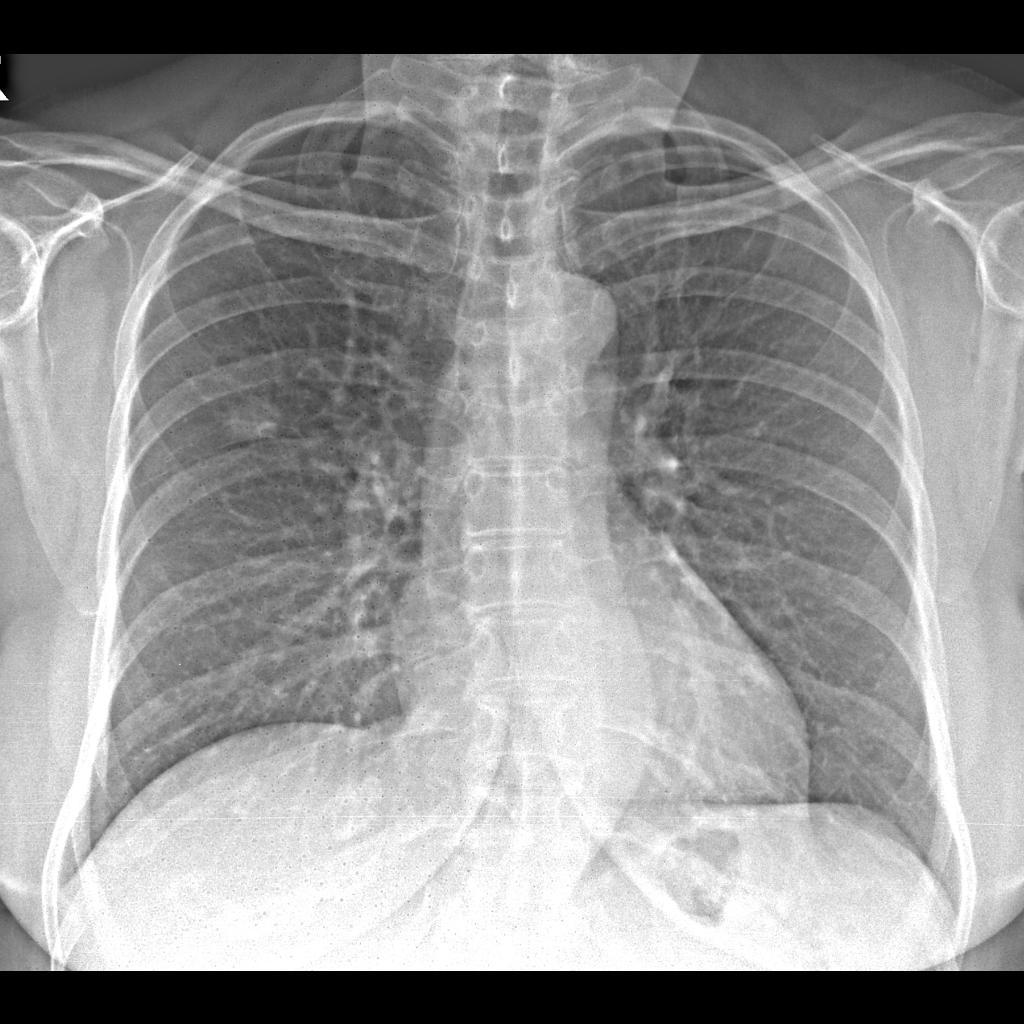Nodule: (217, 389, 295, 456)
